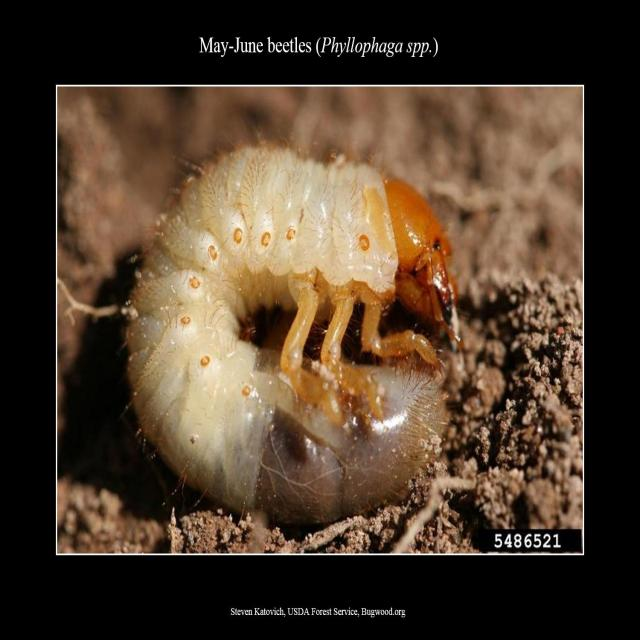Grub-Adult-: (123, 135, 454, 525)
